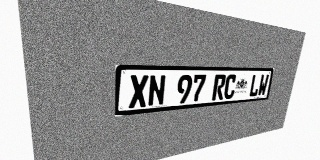7: (190, 75, 206, 103)
9: (176, 75, 193, 104)
C: (223, 74, 237, 99)
L: (248, 74, 261, 97)
N: (147, 75, 166, 107)
R: (212, 74, 226, 100)
W: (257, 74, 269, 96)
X: (129, 75, 148, 108)
